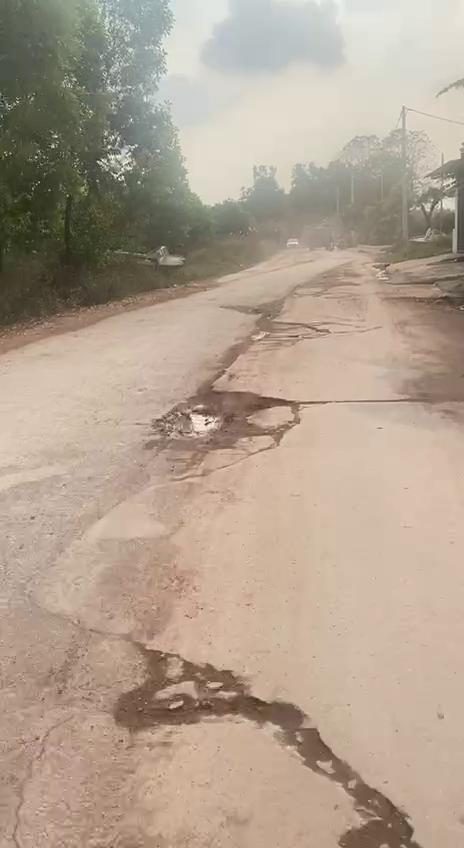pothole: (117, 632, 417, 848), (148, 387, 306, 459)
